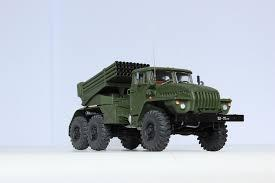MIL_SAM_TEL: (69, 58, 230, 154)
